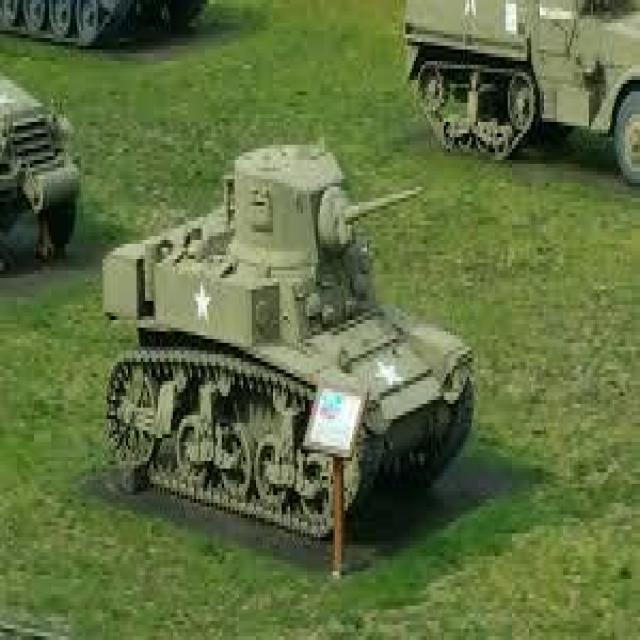Tanks: (101, 99, 477, 530)
